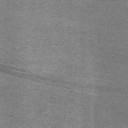finishing roll printing: (0, 64, 96, 96)
